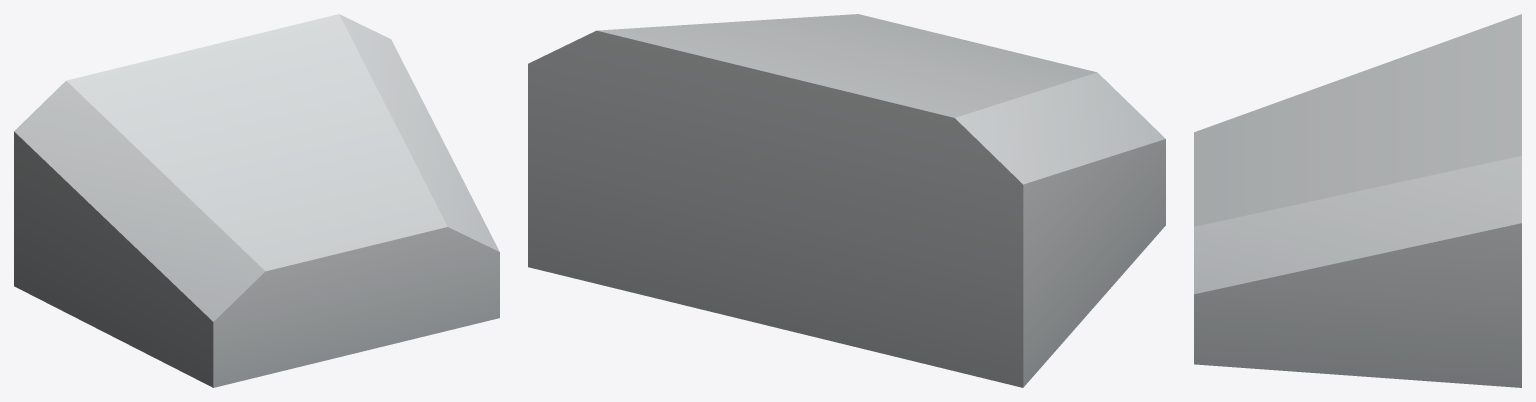
The model's file is Security_cam_002.fbx.
The picture shows the model from 3 angles, left to right: view 1: azimuth 30°, elevation 25°; view 2: azimuth 150°, elevation 25°; view 3: azimuth 270°, elevation 25°; orthographic projection. The views are drawn at different scales.
Parts seen in each view (by area): view 1: Security_cam_002; view 2: Security_cam_002; view 3: Security_cam_002.
Boxes of the visible parts, x1=… form: Security_cam_002: x1=14, y1=14, x2=499, y2=387; Security_cam_002: x1=528, y1=14, x2=1165, y2=387; Security_cam_002: x1=1194, y1=14, x2=1521, y2=387.
Bounding box in the file's own units: 26 × 18.39 × 12.71.
